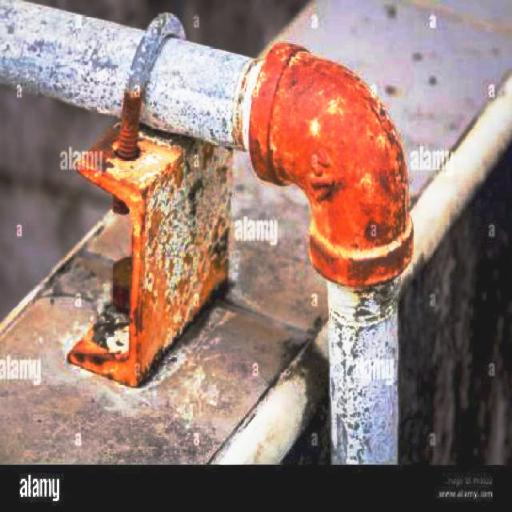corrosion: (246, 41, 417, 287), (74, 153, 149, 381), (110, 82, 150, 162)
